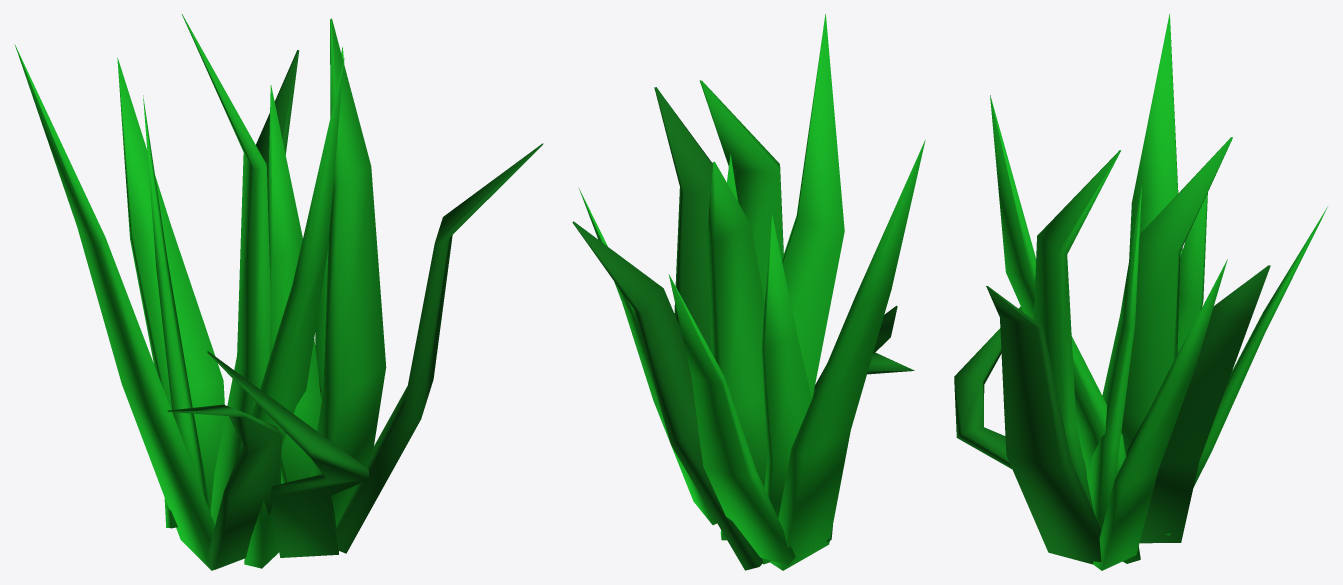
Rendered from cesped_Mediano.glb.
3 views of the same model, side by side, from view 1: azimuth 30°, elevation 25°; view 2: azimuth 150°, elevation 25°; view 3: azimuth 270°, elevation 25° (orthographic). The views are drawn at different scales.
Visible parts, largest first — view 1: Cube.002; view 2: Cube.002; view 3: Cube.002.
Part boxes in pixels (x1,y1,x2,y2): Cube.002: (14, 14, 543, 570); Cube.002: (572, 14, 925, 570); Cube.002: (954, 14, 1327, 570).
Bounding box in the file's own units: 0.7898 × 0.9868 × 0.7325.
